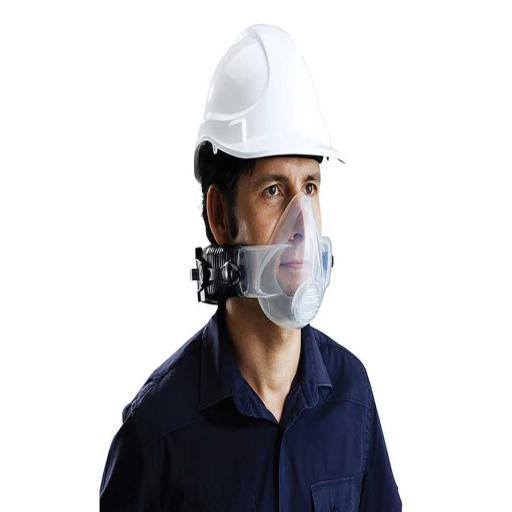mask: (222, 196, 340, 327)
